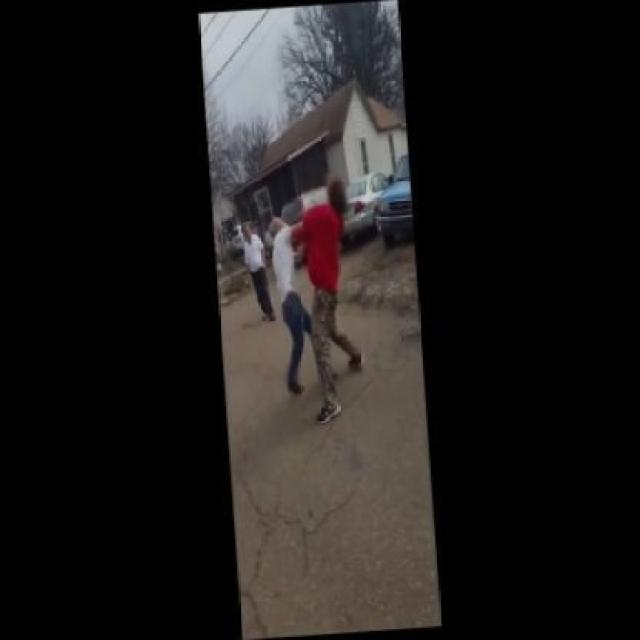fight: (265, 170, 371, 431)
non-fight: (234, 219, 278, 323)
